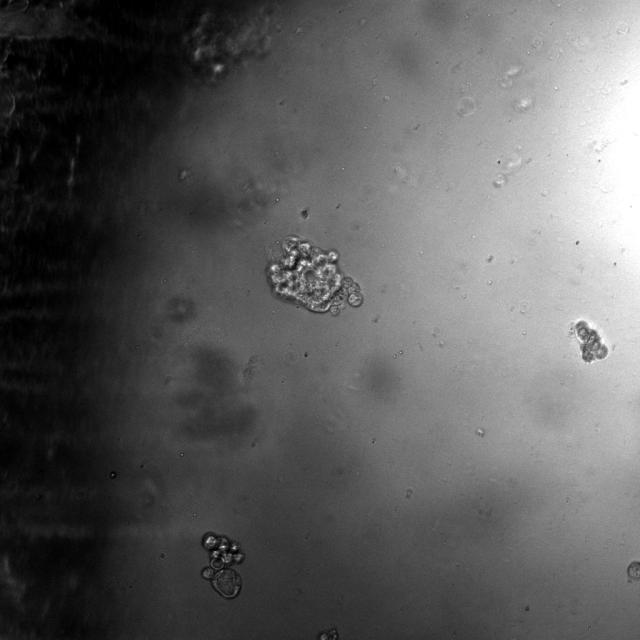organoid: (267, 236, 362, 315), (182, 5, 277, 84), (201, 532, 244, 599), (571, 320, 608, 364), (627, 561, 639, 581)
